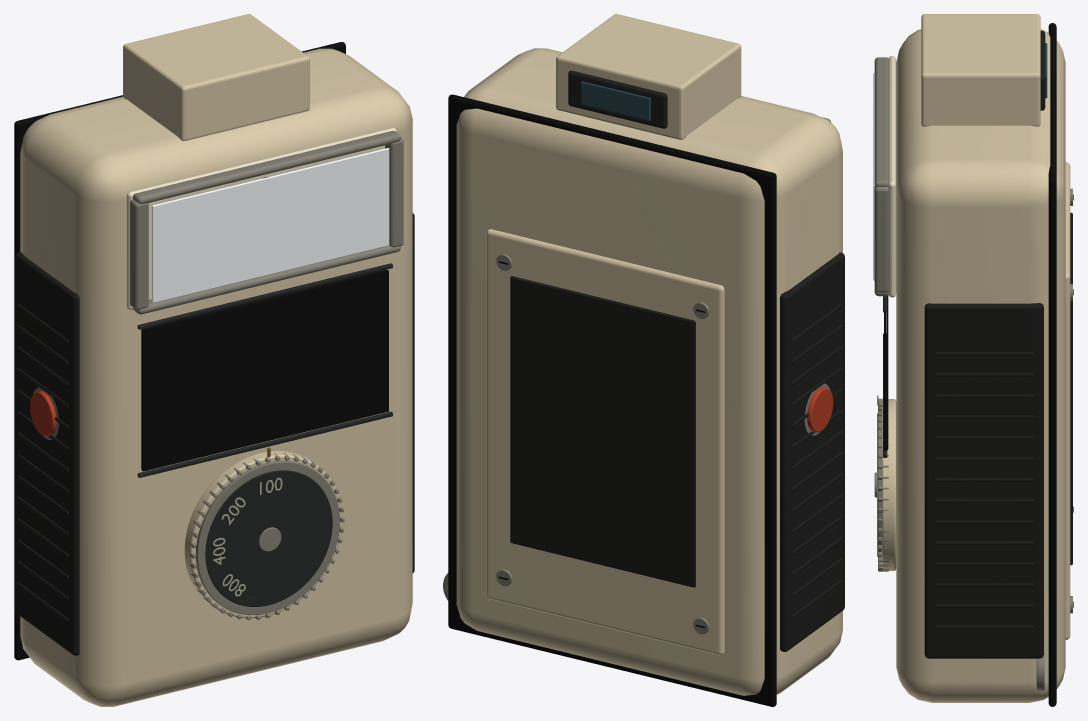
The model's file is LightMeter_LargeReadout_v3.fbx.
3 views of the same model, side by side, from view 1: azimuth 30°, elevation 25°; view 2: azimuth 150°, elevation 25°; view 3: azimuth 270°, elevation 25° (orthographic).
Visible parts, largest first — view 1: MainShell, ReadoutSurface, WindowGlass, SideGrip.001, ReceiverHousing, DialFace, DialFrontRing, WindowBezel.001, InstrumentFace, DialBase, WindowBezel, PerimeterSeam (+6 smaller); view 2: MainShell, BackGrip, BackCoverPanel, SideGrip.001, PerimeterSeam, ReceiverHousing, ReceiverRecess, ReflectedReceiver, ThumbButton; view 3: MainShell, SideGrip, ReceiverHousing, PerimeterSeam, BackCoverPanel, DialBase, WindowBezel.001, InstrumentFace, WindowBezel.002, BackGrip, ReceiverRecess, ReadoutBacking (+16 smaller).
Part boxes in pixels (x1=…): MainShell: x1=20, y1=48, x2=412, y2=706; ReadoutSurface: x1=142, y1=270, x2=388, y2=471; WindowGlass: x1=152, y1=148, x2=389, y2=302; SideGrip.001: x1=15, y1=252, x2=79, y2=655; ReceiverHousing: x1=123, y1=14, x2=309, y2=141; DialFace: x1=205, y1=470, x2=332, y2=606; DialFrontRing: x1=196, y1=460, x2=339, y2=614; WindowBezel.001: x1=133, y1=131, x2=400, y2=203; InstrumentFace: x1=126, y1=127, x2=396, y2=310; DialBase: x1=184, y1=451, x2=342, y2=618; WindowBezel: x1=133, y1=245, x2=400, y2=314; PerimeterSeam: x1=14, y1=42, x2=345, y2=660; MainShell: x1=456, y1=48, x2=842, y2=695; BackGrip: x1=510, y1=276, x2=695, y2=587; BackCoverPanel: x1=486, y1=229, x2=724, y2=655; SideGrip.001: x1=780, y1=252, x2=844, y2=651; PerimeterSeam: x1=448, y1=94, x2=776, y2=706; ReceiverHousing: x1=556, y1=14, x2=741, y2=139; ReceiverRecess: x1=568, y1=70, x2=667, y2=128; ReflectedReceiver: x1=581, y1=81, x2=650, y2=120; ThumbButton: x1=807, y1=387, x2=833, y2=432; MainShell: x1=896, y1=29, x2=1065, y2=702; SideGrip: x1=924, y1=303, x2=1043, y2=658; ReceiverHousing: x1=921, y1=14, x2=1040, y2=126; PerimeterSeam: x1=1048, y1=23, x2=1056, y2=706; BackCoverPanel: x1=1065, y1=162, x2=1070, y2=639; DialBase: x1=881, y1=399, x2=896, y2=570; WindowBezel.001: x1=874, y1=57, x2=888, y2=186; InstrumentFace: x1=888, y1=56, x2=896, y2=297; WindowBezel.002: x1=874, y1=186, x2=888, y2=292; BackGrip: x1=1070, y1=212, x2=1072, y2=565; ReceiverRecess: x1=1040, y1=30, x2=1045, y2=110; ReadoutBacking: x1=886, y1=295, x2=888, y2=450.
Bounding box in the file's own units: 6 × 9.85 × 3.02.
